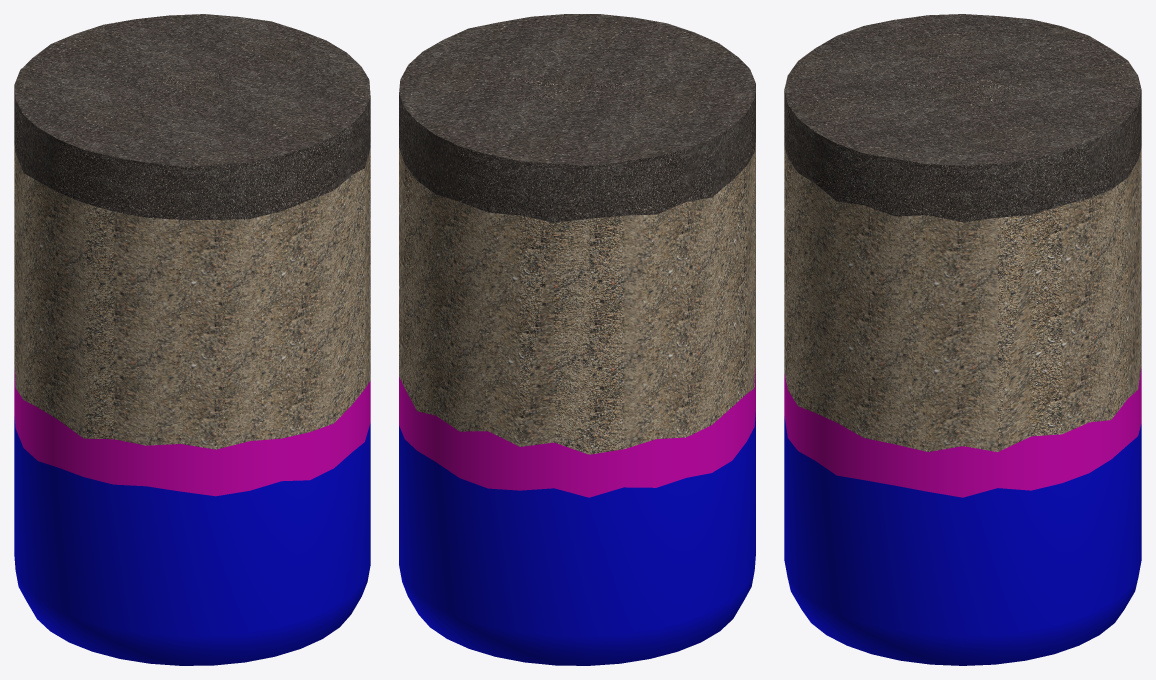
File: FilterInside.fbx
3 views of the same model, side by side, from view 1: azimuth 30°, elevation 25°; view 2: azimuth 150°, elevation 25°; view 3: azimuth 270°, elevation 25° (orthographic).
Visible parts, largest first — view 1: FilterInside; view 2: FilterInside; view 3: FilterInside.
Part boxes in pixels (bbox=[...]): FilterInside: bbox=[14, 14, 370, 665]; FilterInside: bbox=[399, 14, 755, 665]; FilterInside: bbox=[784, 14, 1141, 665].
Size of the model in its own units: 1009 by 1592 by 1009.
